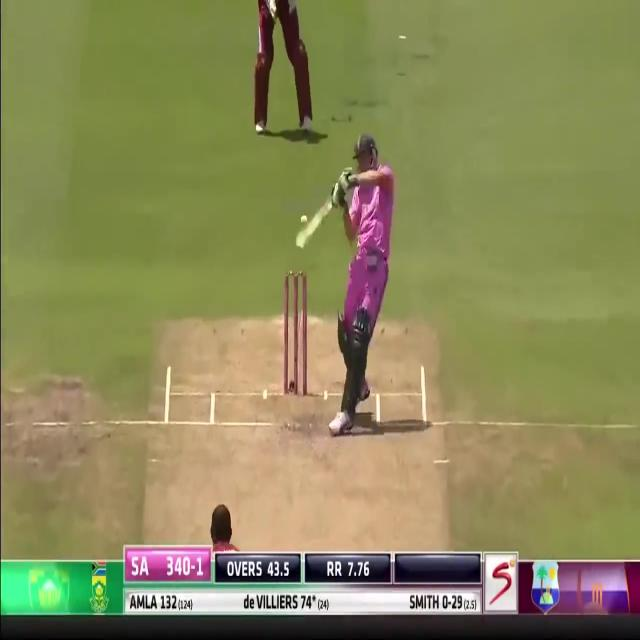Ball: (334, 132, 393, 432)
Fielder: (334, 131, 398, 429), (251, 0, 318, 136)
